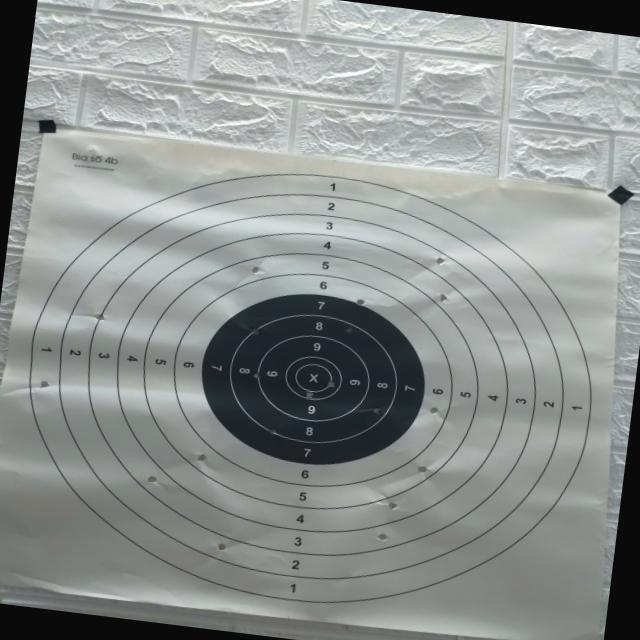bullet: (93, 312, 104, 320), (195, 454, 206, 462), (438, 293, 447, 301), (39, 380, 49, 387), (371, 407, 381, 414), (377, 533, 387, 540), (147, 475, 156, 482), (217, 543, 226, 550), (388, 502, 397, 509), (436, 257, 444, 264), (251, 266, 259, 273), (305, 391, 313, 398), (429, 407, 438, 413), (417, 466, 426, 472), (345, 326, 352, 333), (356, 299, 364, 305), (251, 328, 259, 334), (327, 381, 335, 387), (253, 372, 259, 379), (268, 428, 275, 433)
target: (0, 131, 619, 640)
